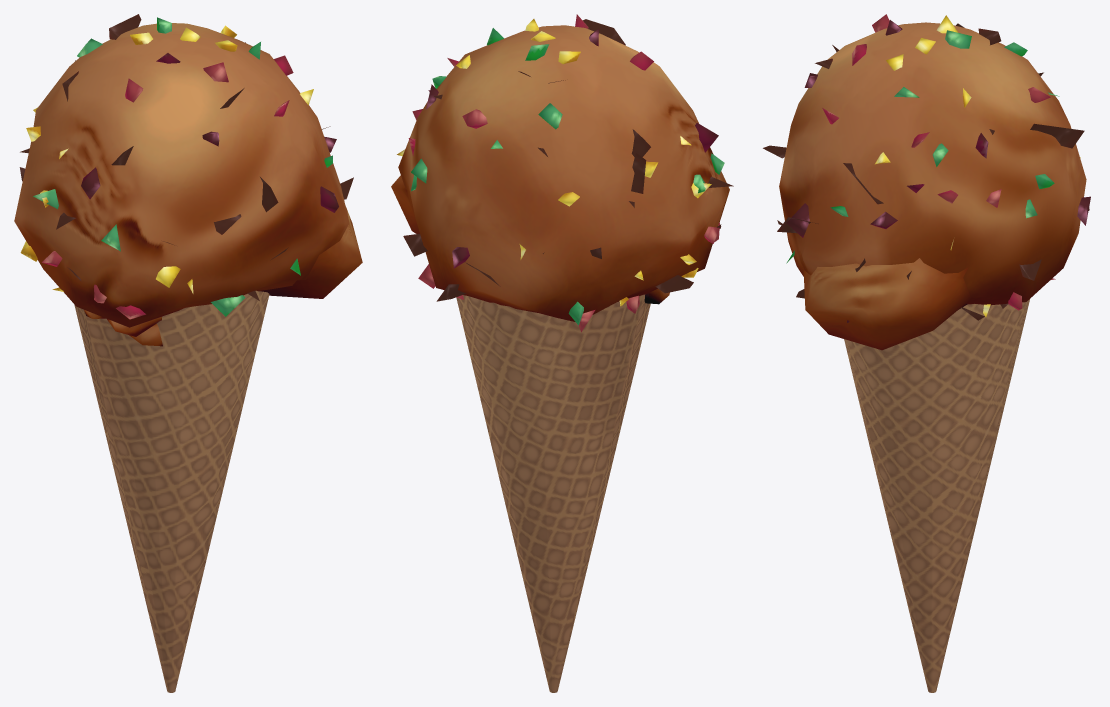
Rendered from ChocletIcecream.glb.
The picture shows the model from 3 angles, left to right: view 1: azimuth 30°, elevation 25°; view 2: azimuth 150°, elevation 25°; view 3: azimuth 270°, elevation 25°; orthographic projection.
Parts seen in each view (by area): view 1: Object_10.002; view 2: Object_10.002; view 3: Object_10.002.
Boxes of the visible parts, box(x1,y1,x2,y2) form: Object_10.002: box(14, 14, 362, 692); Object_10.002: box(391, 14, 733, 692); Object_10.002: box(763, 14, 1090, 692).
Size of the model in its own units: 0.2497 by 0.5071 by 0.2322.
Materials: 1 (1 with a texture image).
